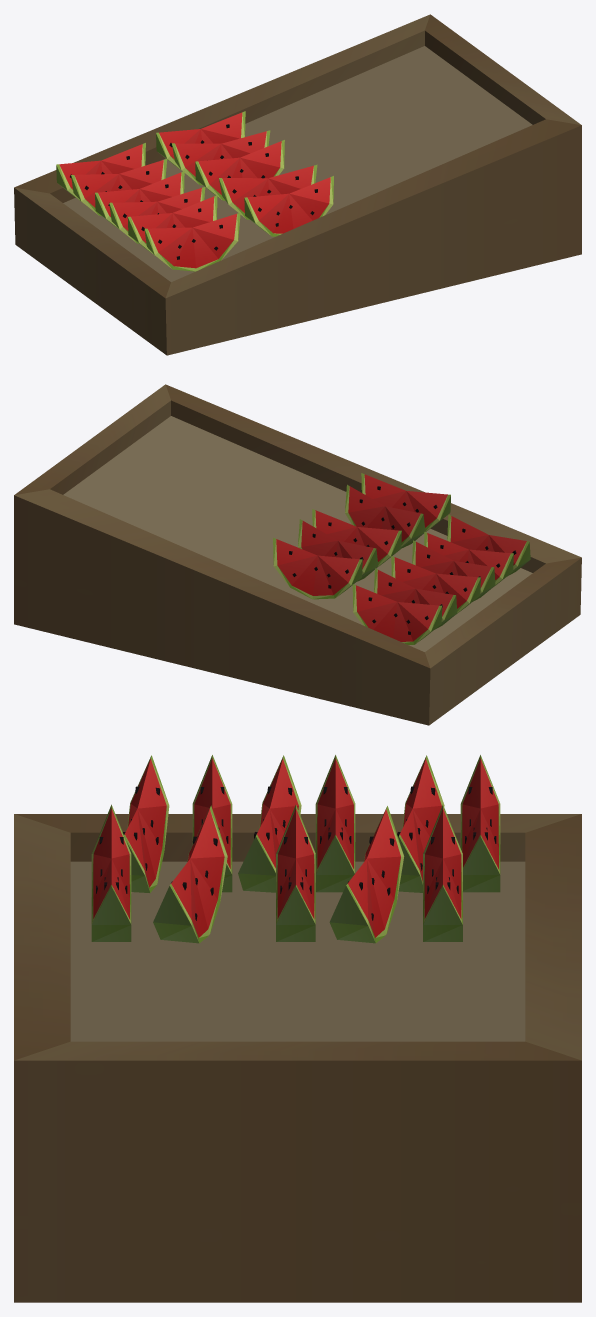
Rendered from Crate_Food_3.fbx.
3 views of the same model, one above another, from view 1: azimuth 30°, elevation 25°; view 2: azimuth 150°, elevation 25°; view 3: azimuth 270°, elevation 25° (orthographic). The views are drawn at different scales.
Parts seen in each view (by area): view 1: polySurface9655; view 2: polySurface9655; view 3: polySurface9655.
Part boxes in pixels (x1,y1,x2,y2): polySurface9655: (14,14,581,355); polySurface9655: (14,384,581,725); polySurface9655: (14,755,581,1302).
Bounding box in the file's own units: 186 × 55 × 117.
